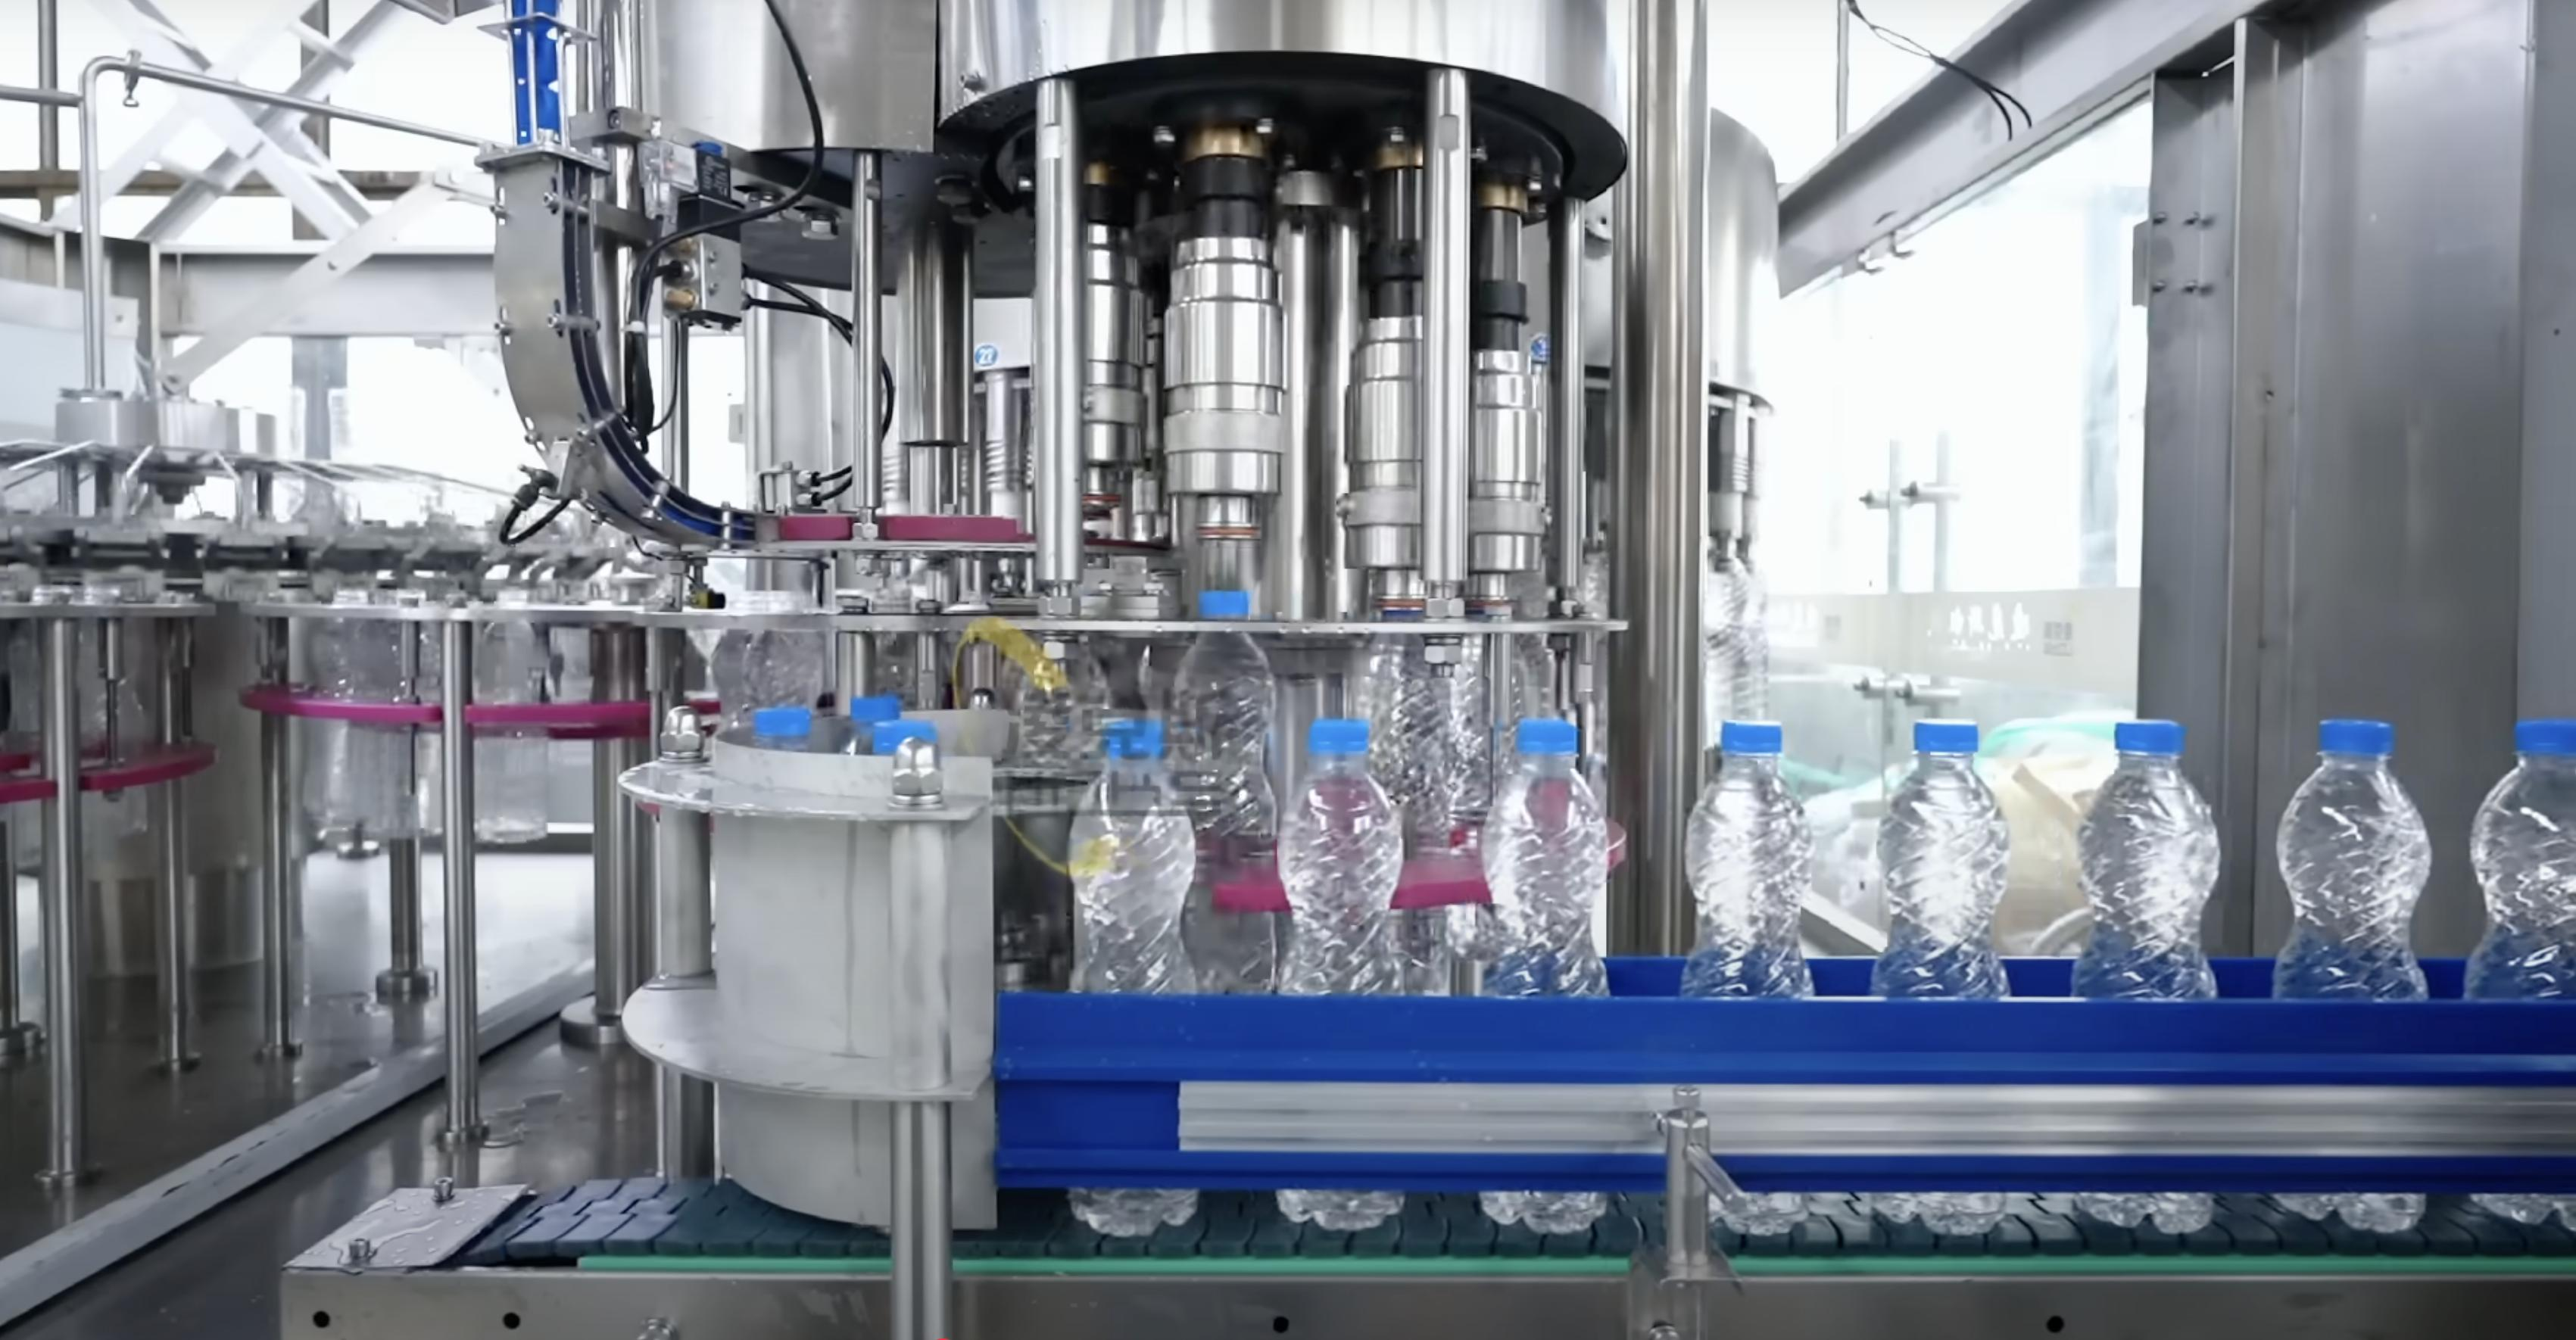bottle: (2263, 695, 2440, 1001), (2061, 701, 2228, 998), (1864, 712, 2026, 993), (1670, 708, 1821, 986), (1056, 710, 1201, 994), (1271, 712, 1411, 994), (1477, 717, 1620, 988), (2460, 695, 2576, 1023)
